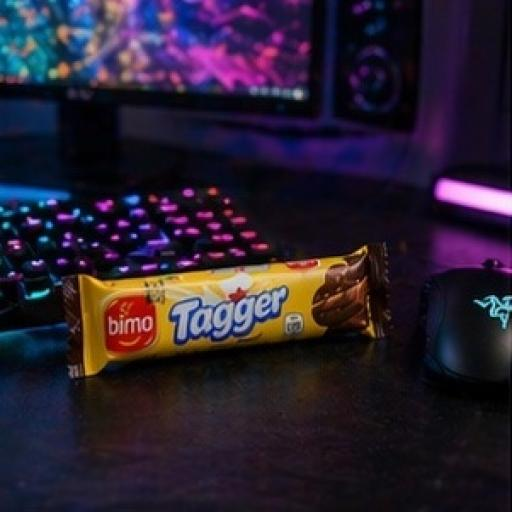tagger: (49, 234, 438, 416)
